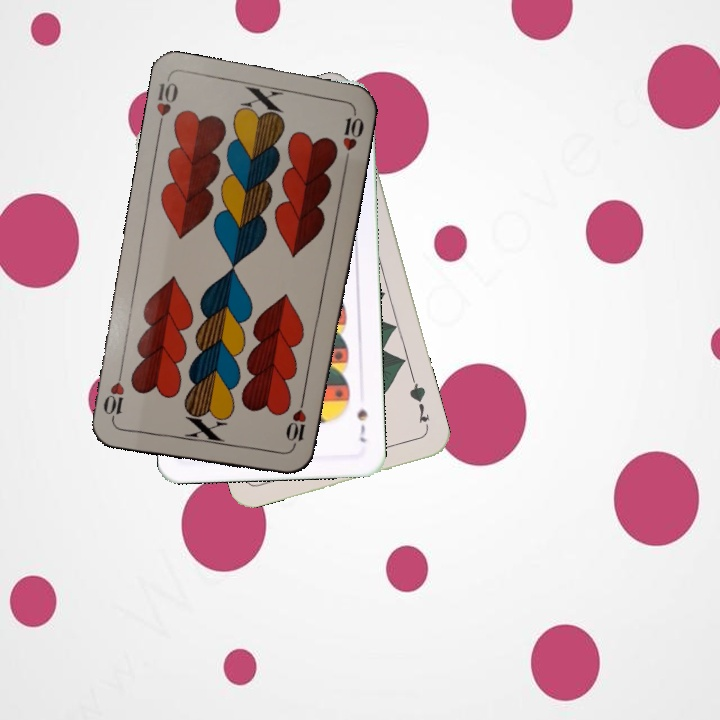G7: (405, 375, 432, 426)
H10: (152, 75, 181, 134), (284, 393, 309, 452)
S7: (353, 405, 370, 445)
